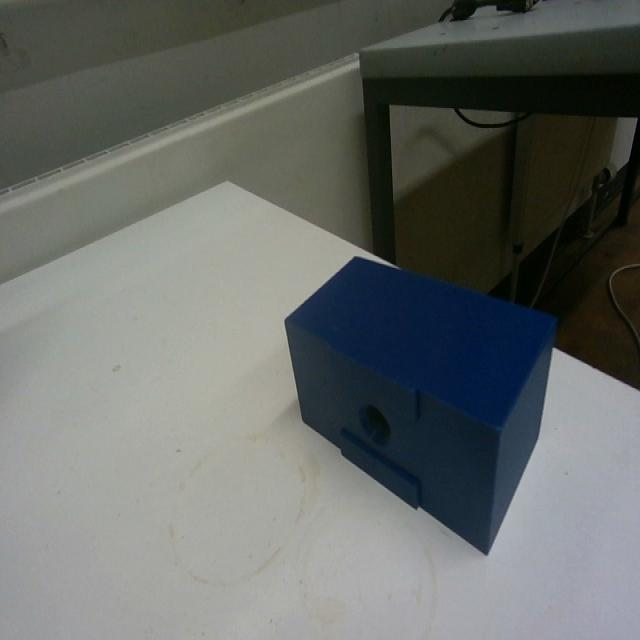Blue Cuboid: (282, 249, 559, 555)
